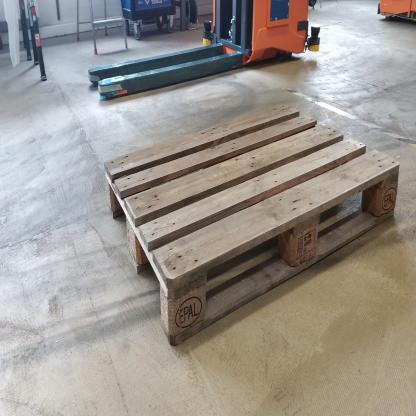BoxFace: (100, 98, 402, 355)
